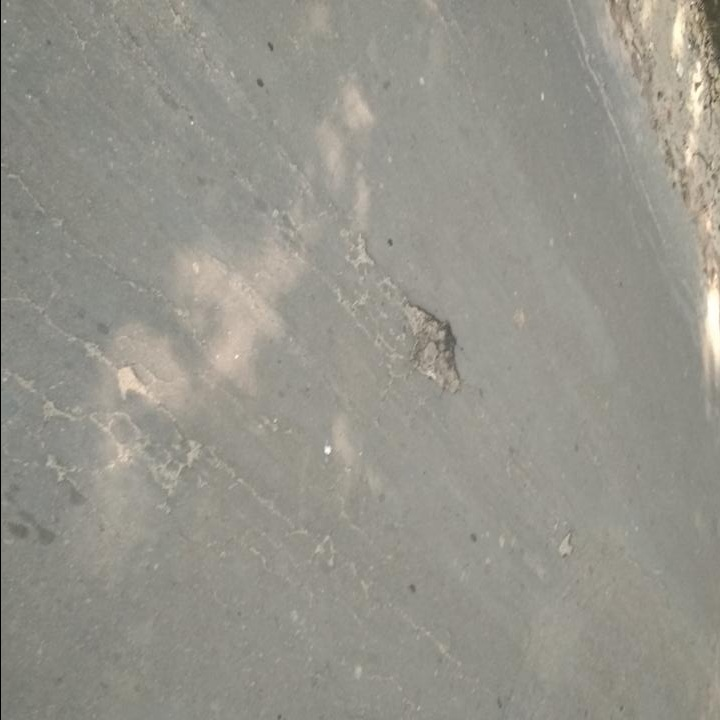pothole: (399, 298, 467, 393), (114, 361, 149, 403), (666, 53, 691, 108), (652, 0, 675, 36), (557, 528, 577, 557), (697, 57, 709, 85), (710, 33, 719, 70), (686, 22, 697, 52), (710, 83, 719, 117), (707, 0, 718, 16), (716, 10, 719, 34)
